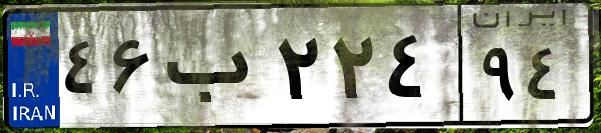2: (270, 28, 330, 110), (330, 28, 385, 110)
4: (385, 28, 445, 110), (57, 26, 110, 100), (525, 38, 570, 115)
6: (110, 28, 158, 98)
9: (475, 38, 525, 113)
ب: (158, 20, 270, 120)
